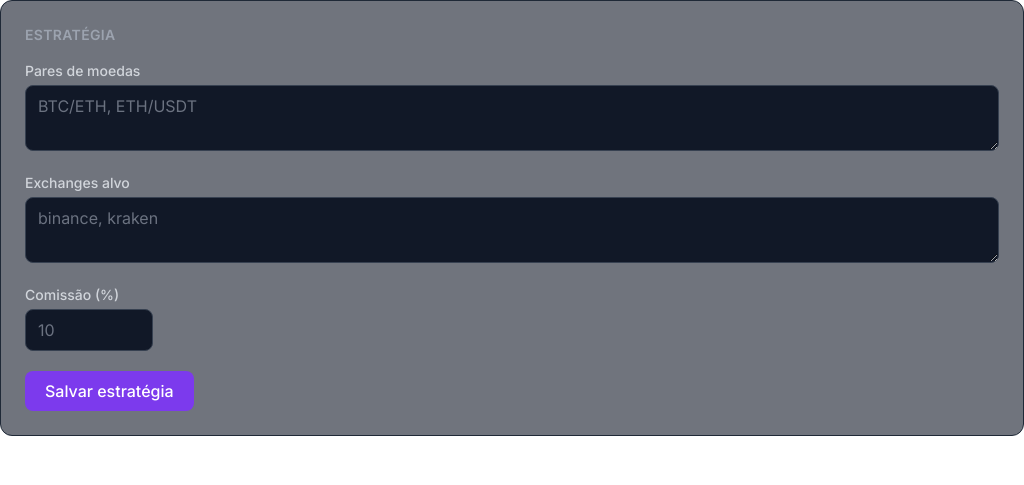
Test: StrategyForm — estratégia configurável (TRIAX-12) › invalida a comissão acima de 30%
The image size is (1024, 485).
Check: the text box labelled "Pares de moedas" is shown, box [25,85,999,151]
In the number field labelled "Comissão (%)": (89, 330) [25,309,153,351], type "40"
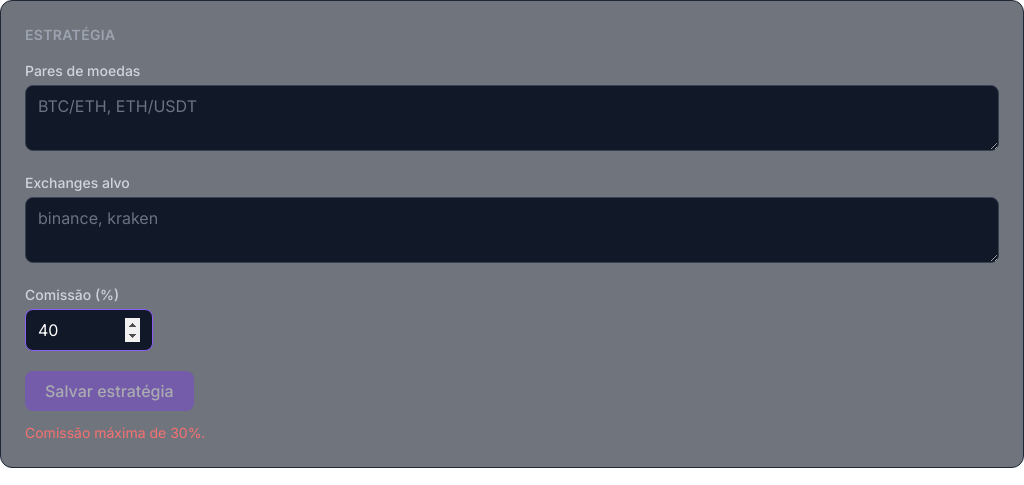
Check: the text "Comissão máxima de 30%." is shown, box [25,424,205,441]
Check: the button "Salvar estratégia" is disabled, box [25,371,194,411]
